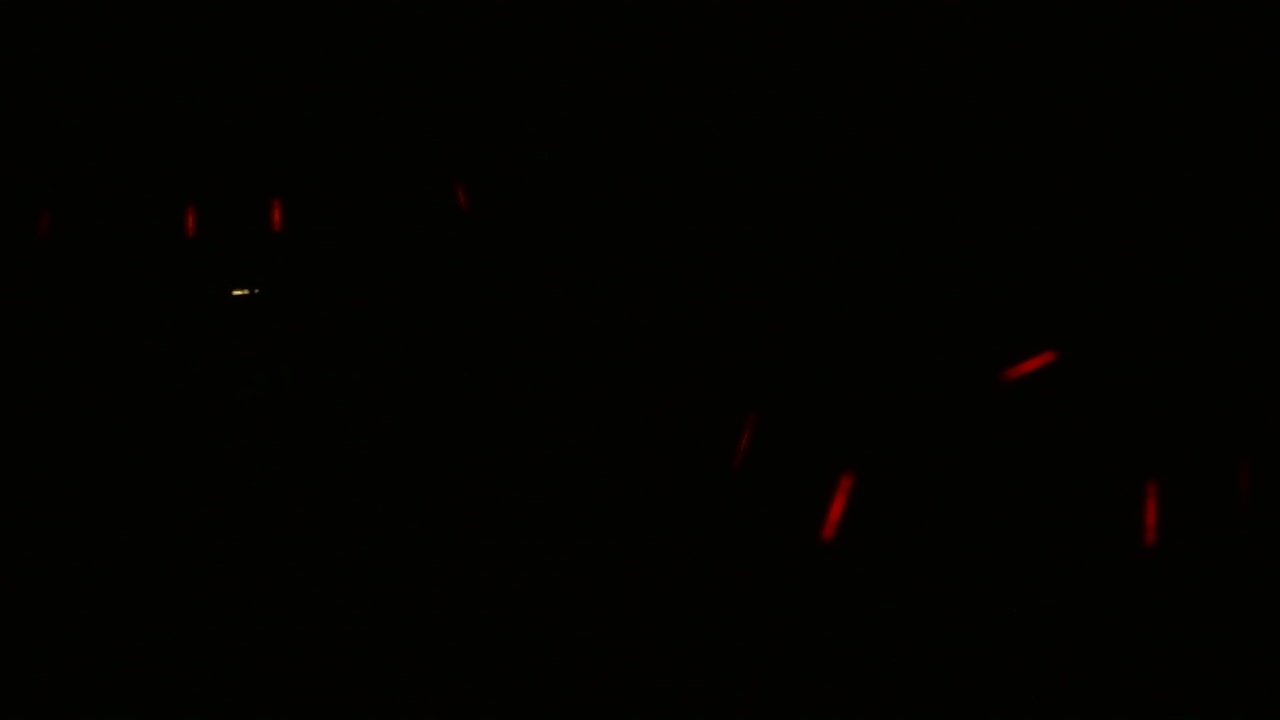pair1: (733, 415, 855, 544), (179, 196, 285, 238)
